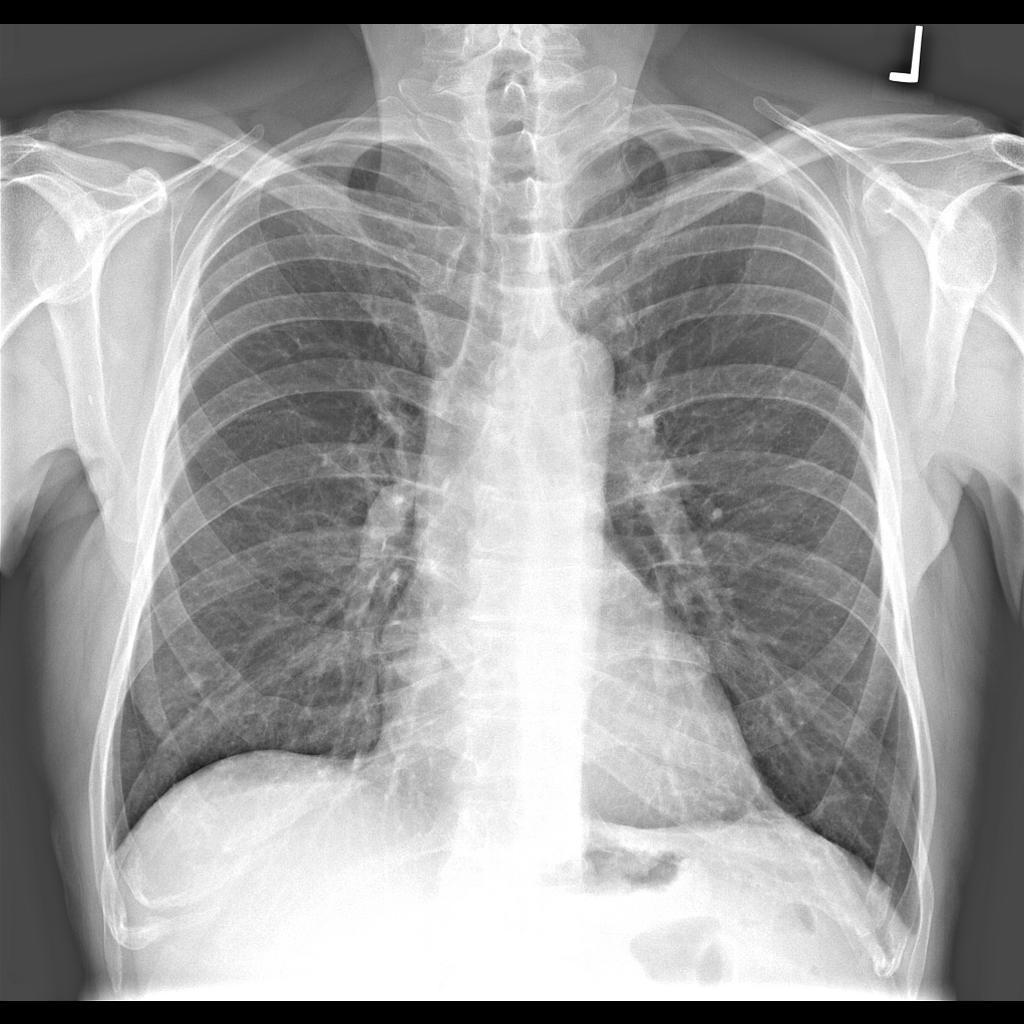Nodule: (177, 665, 211, 700)
